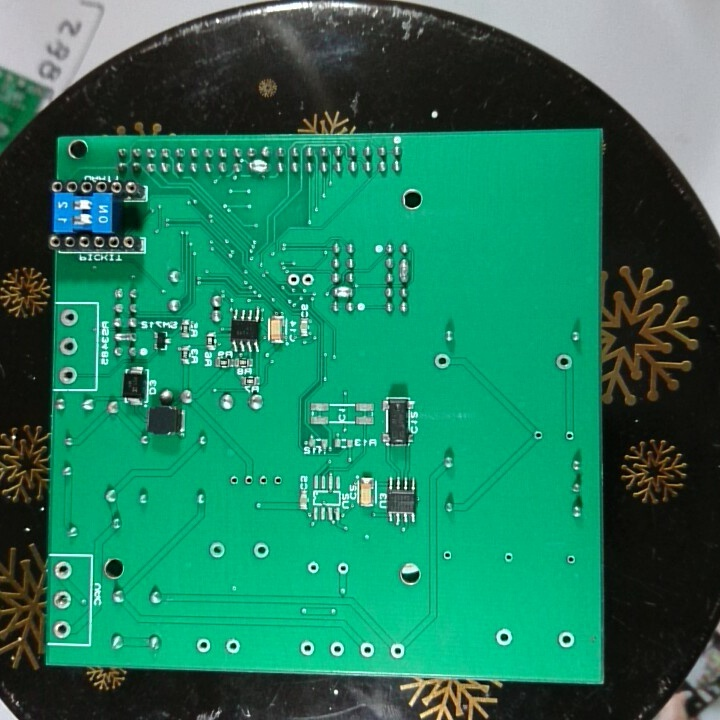F: (492, 625, 514, 649), (249, 540, 273, 562), (53, 559, 75, 583), (57, 364, 78, 388), (51, 618, 74, 639), (59, 335, 79, 359), (555, 629, 577, 650), (356, 638, 378, 659), (205, 540, 228, 560), (222, 635, 242, 658), (53, 589, 74, 610), (387, 640, 406, 663), (60, 306, 79, 329), (554, 352, 574, 373), (327, 638, 346, 660), (432, 352, 451, 372), (297, 639, 316, 659), (193, 636, 213, 655), (300, 271, 317, 291), (305, 559, 322, 578), (562, 427, 578, 446), (439, 547, 455, 566), (256, 472, 271, 492), (226, 472, 242, 490), (335, 559, 350, 578), (285, 272, 301, 289), (242, 472, 255, 492), (271, 472, 284, 492), (531, 427, 545, 444), (502, 550, 516, 565), (565, 552, 577, 567)
P: (111, 329, 139, 345), (245, 158, 271, 175), (397, 256, 411, 284), (331, 285, 356, 298)
